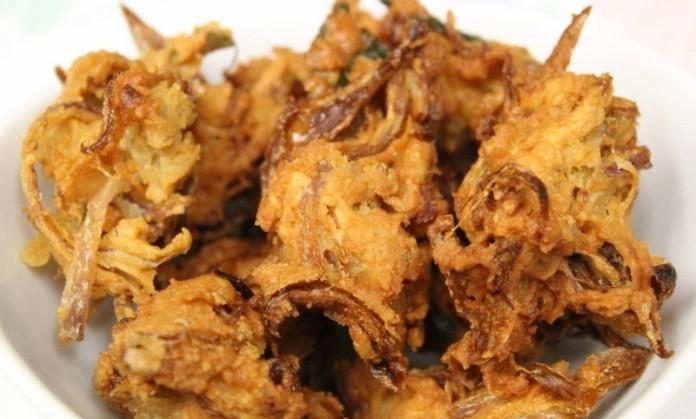OnionPakoda: (20, 0, 679, 419)
